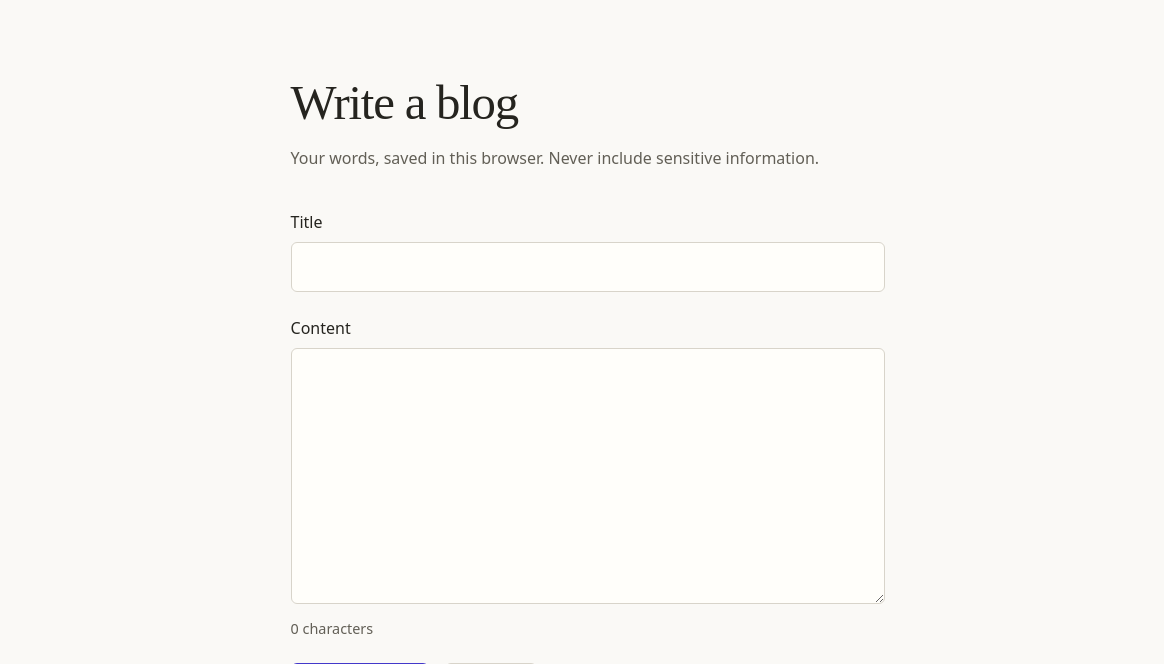
Test: WriteBlog › blocks required/whitespace fields (, ) with associated inline errors
Clear the field labelled "Title" at (588, 267), box [291,242,886,292]
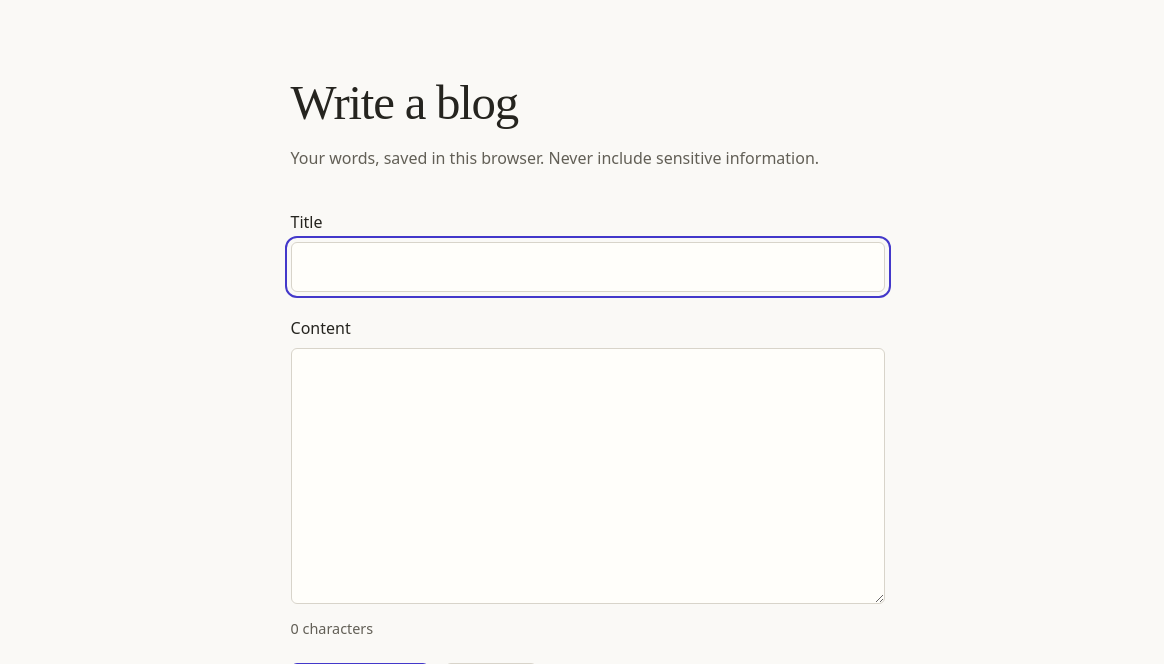
Clear the text box labelled "Content" at (588, 476), box [291,348,886,604]
(page scrolled)
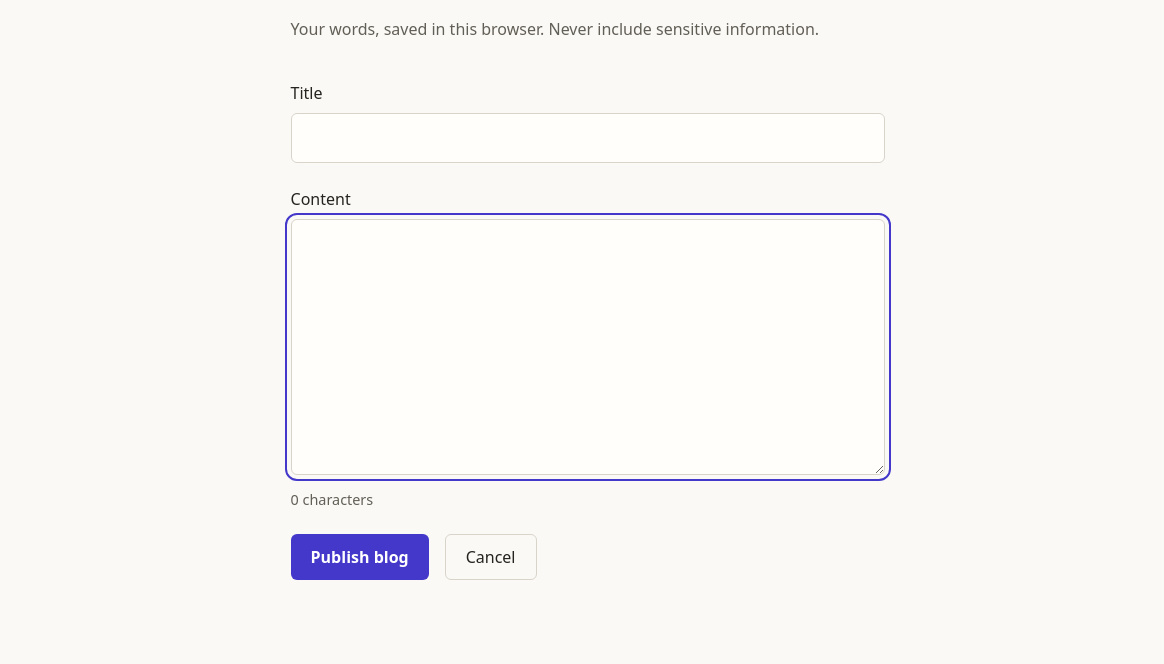
Click the button "Publish blog".
click(360, 557)  # box [291,534,429,580]
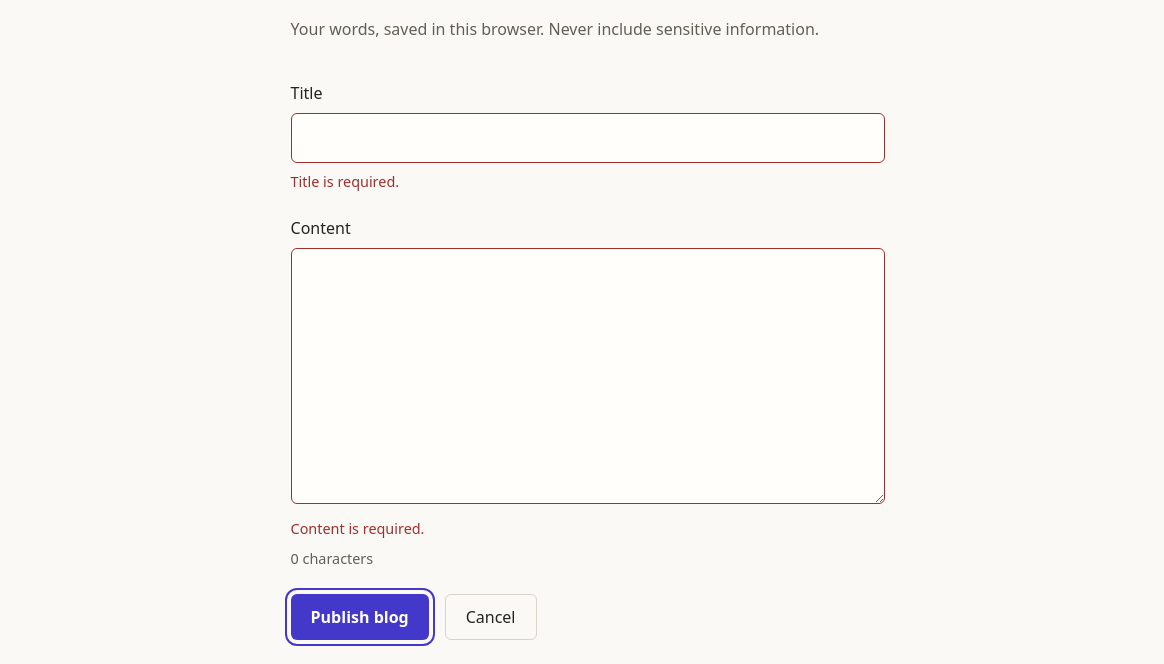
expect the button "Publish blog" is shown: met, box [291,594,429,640]
expect the number of messages is 2: met, box [291,172,399,191]; [291,519,424,538]
